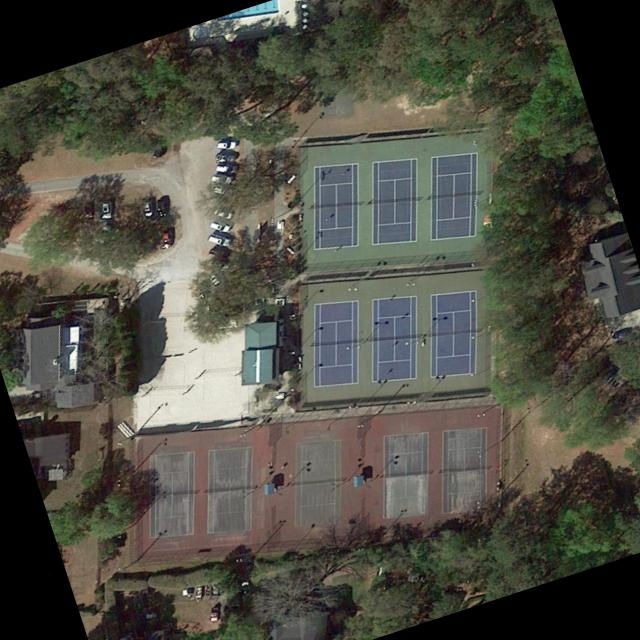small-vehicle: (206, 244, 231, 259), (206, 232, 230, 247), (208, 219, 231, 234), (204, 270, 223, 287), (204, 256, 225, 271), (213, 206, 233, 220), (209, 173, 232, 185), (214, 163, 236, 175), (155, 198, 167, 218), (160, 228, 172, 247), (215, 139, 236, 149), (215, 153, 236, 163), (142, 200, 152, 218), (100, 201, 110, 219), (208, 605, 218, 622)
